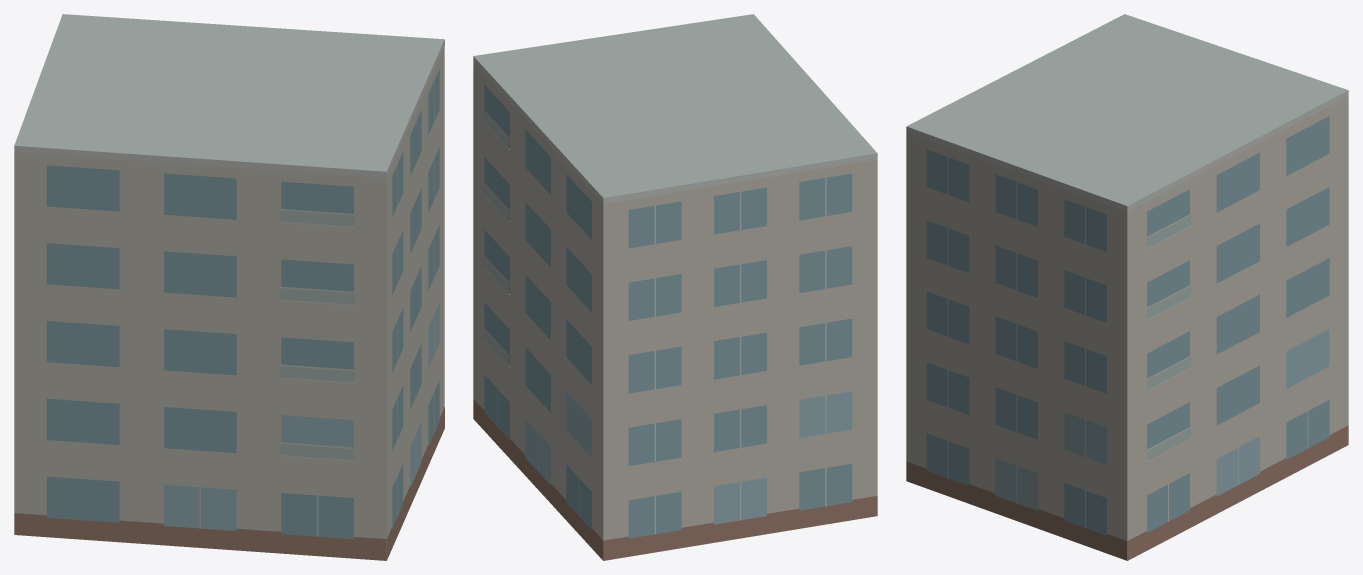
The model's file is survey-upis-32847425.glb.
3 views of the same model, side by side, from view 1: azimuth 30°, elevation 25°; view 2: azimuth 150°, elevation 25°; view 3: azimuth 270°, elevation 25° (orthographic). The views are drawn at different scales.
Parts seen in each view (by area): view 1: survey-upis-32847425.tmp; view 2: survey-upis-32847425.tmp; view 3: survey-upis-32847425.tmp.
Boxes of the visible parts, x1,y1,x2,y2 form: survey-upis-32847425.tmp: (14,14,444,560); survey-upis-32847425.tmp: (473,14,877,560); survey-upis-32847425.tmp: (906,14,1348,560).
Size of the model in its own units: 16.68 by 14.35 by 16.23.
